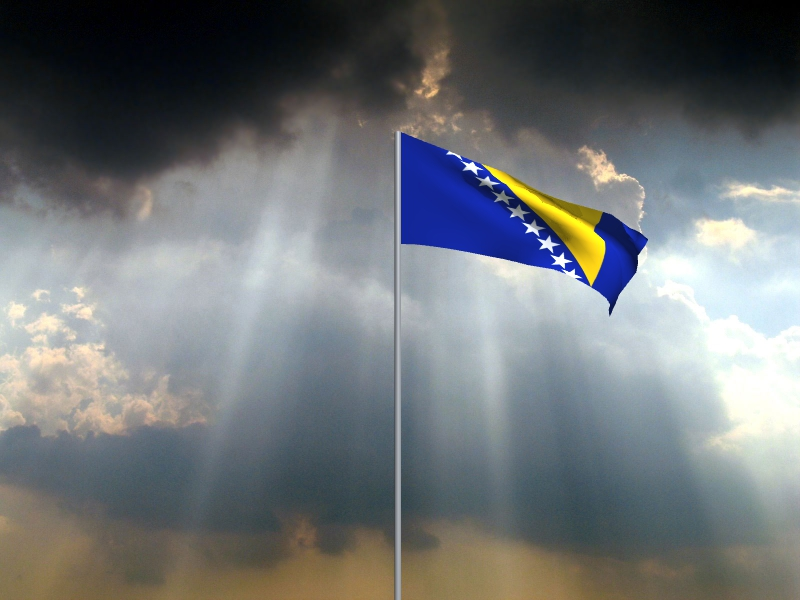ba: (402, 133, 650, 319)
